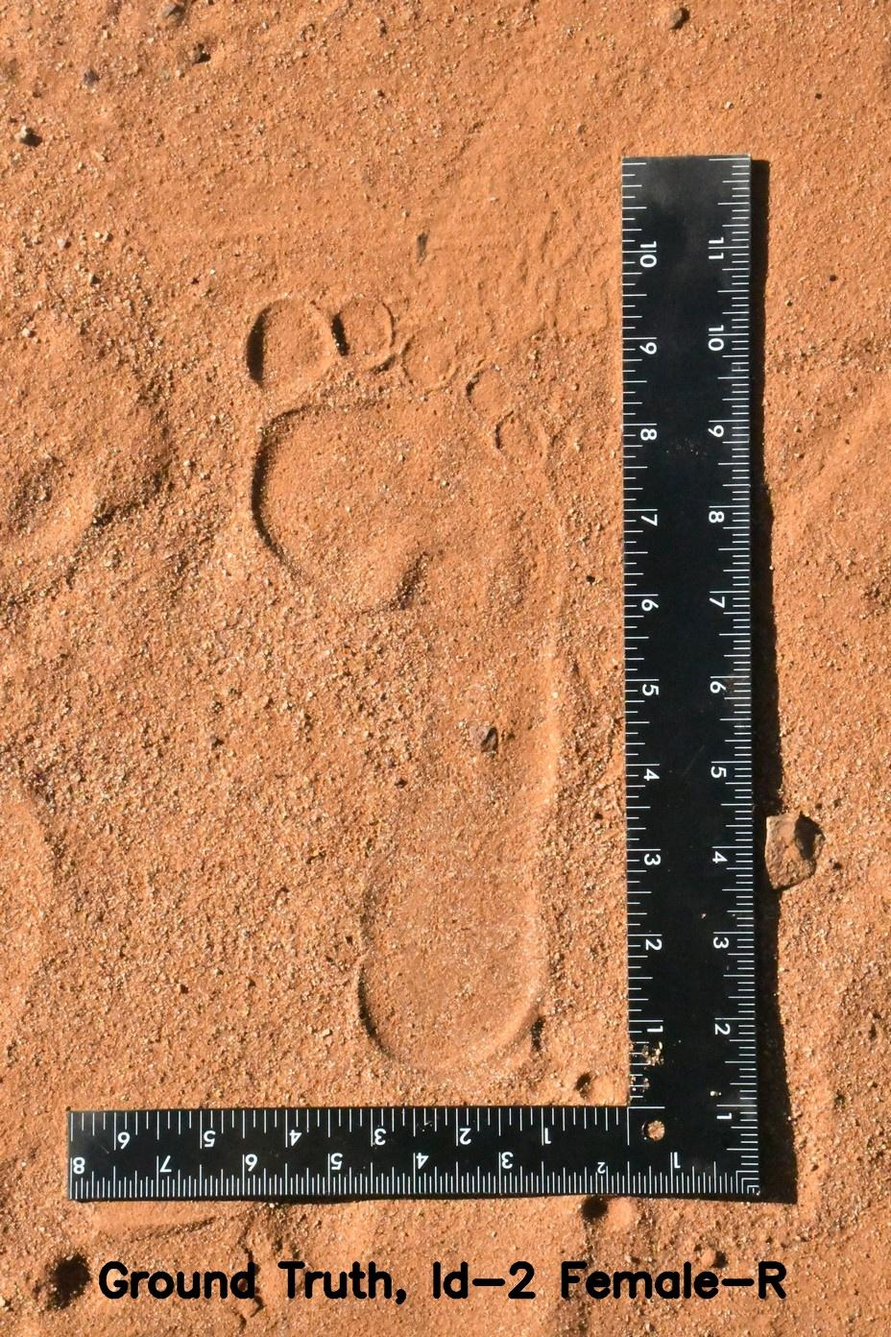human_foot_print: (205, 276, 602, 1085)
